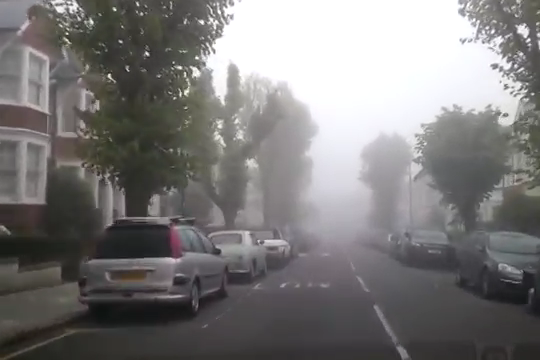car: (75, 213, 230, 318), (455, 226, 540, 311), (197, 229, 264, 282), (234, 222, 291, 268), (402, 227, 459, 273), (261, 223, 300, 264), (384, 225, 423, 262)
